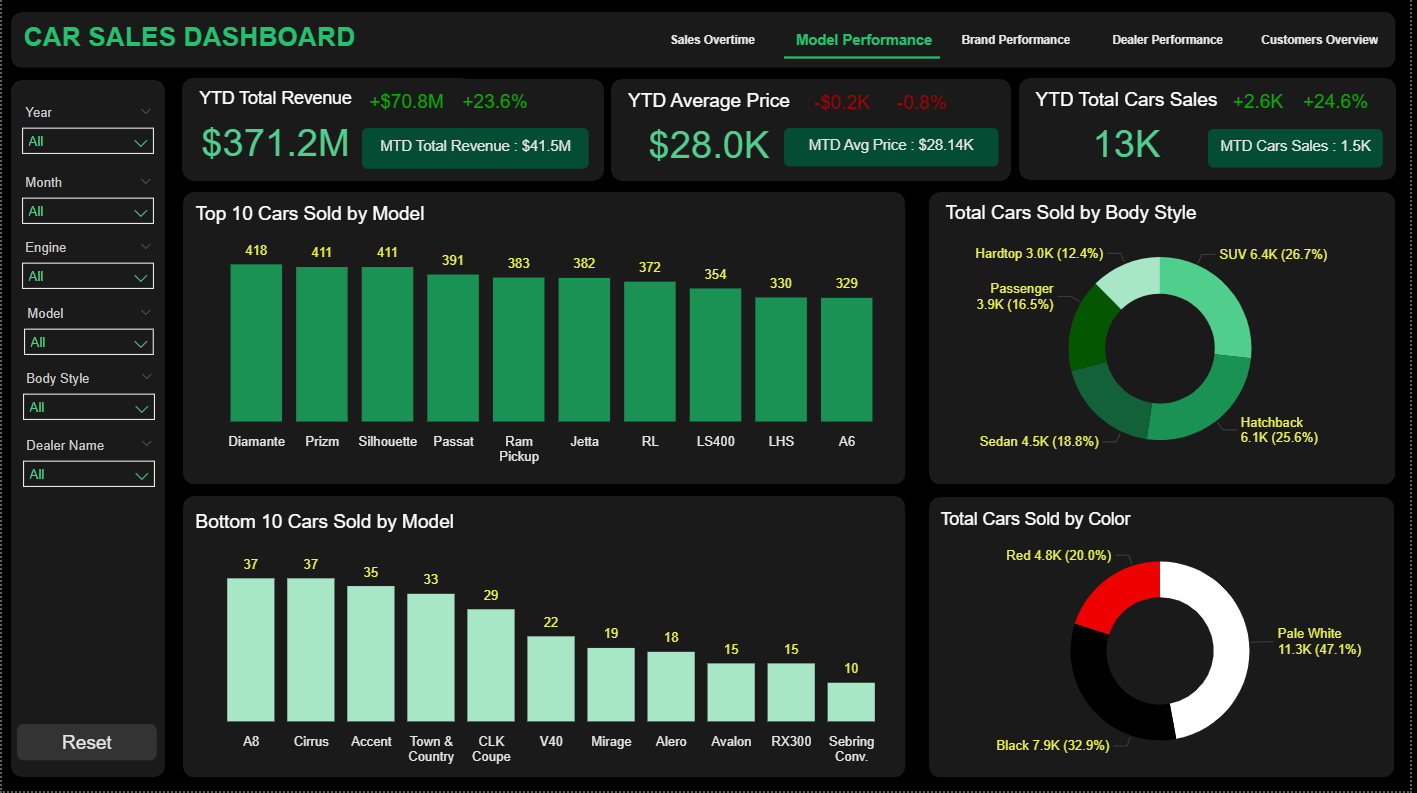

The page's visual inventory and layout, read from the dashboard file:
{"tool":"powerbi","page":{"name":"Model Performance","canvas":[1280,720],"ordinal":1},"visuals":[{"type":"shape","box":[7.3,11.8,145.5,153.6],"z":0},{"type":"shape","box":[163.6,11.8,1103.6,50.9],"z":1000},{"type":"shape","box":[6.4,175.5,146.4,531.8],"z":2000},{"type":"shape","box":[1002,73,265,92],"z":3000},{"type":"shape","box":[724.5,72.7,264.5,92.7],"z":4000},{"type":"shape","box":[443.3,71.6,265.1,93.1],"z":5000},{"type":"shape","box":[163.6,71.8,264.5,92.7],"z":6000},{"type":"shape","box":[891.8,175.5,375.5,266.4],"z":7000},{"type":"slicer","fields":{"Values":["DateTable.Year"]},"box":[16.4,190,129.1,60.9],"z":8000},{"type":"slicer","fields":{"Values":["Car Model.Engine"]},"box":[16.4,346.4,129.1,60],"z":9000},{"type":"slicer","fields":{"Values":["Car Model.Model"]},"box":[16.4,421.8,129.1,59.1],"z":10000},{"type":"slicer","fields":{"Values":["Dealer.Dealer_Name"]},"box":[14.5,572.7,129.1,60],"z":11000},{"type":"slicer","fields":{"Values":["Car Model.Body Style"]},"box":[16.4,497.3,129.1,60],"z":12000},{"type":"textbox","box":[455.2,17.5,538.8,39.9],"z":13000},{"type":"textbox","box":[14.5,17.3,138.2,29.1],"z":14000},{"type":"actionButton","box":[16.4,650.9,129.1,32.7],"z":15000},{"type":"slicer","fields":{"Values":["DateTable.Month Name"]},"box":[16.4,270,129.1,59.1],"z":16000},{"type":"donutChart","fields":{"Y":["Car Sales Datasets.Total Cars Sold"],"Category":["Car Model.Body Style"]},"box":[898.2,180.9,368.1,255.2],"z":17000},{"type":"shape","box":[891.9,452.3,374.5,254.8],"z":18000},{"type":"shape","box":[163.6,175.5,719.1,266.4],"z":19000},{"type":"shape","title":"Top 10 Cars Sold by Model","box":[163.6,451.8,719.1,255.5],"z":20000},{"type":"columnChart","title":"Top 10 Cars Sold by Model","fields":{"Y":["Car Sales Datasets.Total Cars Sold"],"Category":["Car Model.Model"]},"box":[164.5,180.9,715.5,255.5],"z":21000},{"type":"columnChart","title":"Bottom 10 Cars Sold by Model","fields":{"Y":["Car Sales Datasets.Total Cars Sold"],"Category":["Car Model.Model"]},"box":[164.5,458.2,715.5,245.5],"z":22000},{"type":"donutChart","title":"Total Cars Sold by Color","fields":{"Y":["Car Sales Datasets.Total Cars Sold"],"Category":["Car Model.Color"]},"box":[898.2,464.5,369.1,232.7],"z":23000},{"type":"pageNavigator","box":[14.5,44.5,129.1,112.7],"z":24000},{"type":"shape","box":[164.5,72.7,264.5,92.7],"z":25000},{"type":"card","title":"YTD Total Revenue","fields":{"Values":["Measrure.YTD Revenue"]},"box":[164.5,87.3,138.2,78.2],"z":26000},{"type":"card","fields":{"Values":["Sales.Revenue Diff and Icon"]},"box":[302.7,72.7,68.2,46.4],"z":27000},{"type":"card","fields":{"Values":["Measrure.YOY Revenue Growth and Icon"]},"box":[368.2,72.7,60.9,46.4],"z":28000},{"type":"shape","box":[443.2,73.4,264.2,93.1],"z":29000},{"type":"shape","box":[444.1,72.5,264.2,93.1],"z":30000},{"type":"card","fields":{"Values":["Measrure.Avg Sale Price Diff and Icon"]},"box":[589.1,72.7,64.5,46.4],"z":31000},{"type":"card","fields":{"Values":["Measrure.YOY Avg Price Growth and Icon"]},"box":[653.6,72.7,50.9,46.4],"z":32000},{"type":"card","title":" YTD Average Price","fields":{"Values":["Measrure.YTD Avg Sale Price"]},"box":[444.5,87.3,144.5,78.2],"z":33000},{"type":"shape","box":[726.3,72.5,264.2,93.1],"z":34000},{"type":"card","title":"YTD Total Cars Sales","fields":{"Values":["Measrure.YTD Total Cars Sold"]},"box":[726.4,87.3,153.6,78.2],"z":35000},{"type":"card","fields":{"Values":["Measrure.Total Cars Sold Diff and Icon"]},"box":[880,72.7,49.1,46.4],"z":36000},{"type":"card","fields":{"Values":["Measure.YOY Total Cars Sold Growth and Icon"]},"box":[929.1,72.7,61.8,46.4],"z":37000},{"type":"shape","box":[1003,72.5,264.2,93.1],"z":38000},{"type":"card","title":"YTD Total Customers","fields":{"Values":["Measure.YTD Total Customers"]},"box":[1002.7,87.3,153.6,78.2],"z":39000},{"type":"card","fields":{"Values":["Measure.Total Customers Diff and Icon"]},"box":[1156.4,72.7,51.8,46.4],"z":40000},{"type":"card","fields":{"Values":["Measure.YOY Total Customers Growth and Icon"]},"box":[1205.5,72.7,61.8,46.4],"z":41000},{"type":"lineChart","fields":{"Category":["DateTable.Month Number"],"Y":["Measure.Total Revenue"]},"box":[296.4,86,163.9,78.8],"z":42000},{"type":"lineChart","fields":{"Category":["DateTable.Month Number"],"Y":["Measure.Average Sale Price"]},"box":[580.3,99.4,160.3,65.4],"z":43000},{"type":"lineChart","fields":{"Category":["DateTable.Month Number"],"Y":["Measure.Total Cars Sold"]},"box":[873.1,96.7,137,68.1],"z":44000},{"type":"lineChart","fields":{"Category":["DateTable.Month Number"],"Y":["Customer.Total Customers"]},"box":[1151.6,96.7,128.1,68.1],"z":45000}]}

Visuals, with their boxes in screenshot pixels (x1, y1, x2, y2), scaled from the page's 1280x720 canvas onto the 1417x793 screenshot:
shape: (left=8, top=13, right=169, bottom=182)
shape: (left=181, top=13, right=1403, bottom=69)
shape: (left=7, top=193, right=169, bottom=779)
shape: (left=1109, top=80, right=1403, bottom=182)
shape: (left=802, top=80, right=1095, bottom=182)
shape: (left=491, top=79, right=784, bottom=181)
shape: (left=181, top=79, right=474, bottom=181)
shape: (left=987, top=193, right=1403, bottom=487)
slicer - DateTable.Year: (left=18, top=209, right=161, bottom=276)
slicer - Car Model.Engine: (left=18, top=382, right=161, bottom=448)
slicer - Car Model.Model: (left=18, top=465, right=161, bottom=530)
slicer - Dealer.Dealer_Name: (left=16, top=631, right=159, bottom=697)
slicer - Car Model.Body Style: (left=18, top=548, right=161, bottom=614)
textbox: (left=504, top=19, right=1100, bottom=63)
textbox: (left=16, top=19, right=169, bottom=51)
actionButton: (left=18, top=717, right=161, bottom=753)
slicer - DateTable.Month Name: (left=18, top=297, right=161, bottom=362)
donutChart - Car Sales Datasets.Total Cars Sold x Car Model.Body Style: (left=994, top=199, right=1402, bottom=480)
shape: (left=987, top=498, right=1402, bottom=779)
shape: (left=181, top=193, right=977, bottom=487)
"Top 10 Cars Sold by Model" shape: (left=181, top=498, right=977, bottom=779)
"Top 10 Cars Sold by Model" columnChart: (left=182, top=199, right=974, bottom=481)
"Bottom 10 Cars Sold by Model" columnChart: (left=182, top=505, right=974, bottom=775)
"Total Cars Sold by Color" donutChart: (left=994, top=512, right=1403, bottom=768)
pageNavigator: (left=16, top=49, right=159, bottom=173)
shape: (left=182, top=80, right=475, bottom=182)
"YTD Total Revenue" card: (left=182, top=96, right=335, bottom=182)
card - Sales.Revenue Diff and Icon: (left=335, top=80, right=411, bottom=131)
card - Measrure.YOY Revenue Growth and Icon: (left=408, top=80, right=475, bottom=131)
shape: (left=491, top=81, right=783, bottom=183)
shape: (left=492, top=80, right=784, bottom=182)
card - Measrure.Avg Sale Price Diff and Icon: (left=652, top=80, right=724, bottom=131)
card - Measrure.YOY Avg Price Growth and Icon: (left=724, top=80, right=780, bottom=131)
" YTD Average Price" card: (left=492, top=96, right=652, bottom=182)
shape: (left=804, top=80, right=1097, bottom=182)
"YTD Total Cars Sales" card: (left=804, top=96, right=974, bottom=182)
card - Measrure.Total Cars Sold Diff and Icon: (left=974, top=80, right=1029, bottom=131)
card - Measure.YOY Total Cars Sold Growth and Icon: (left=1029, top=80, right=1097, bottom=131)
shape: (left=1110, top=80, right=1403, bottom=182)
"YTD Total Customers" card: (left=1110, top=96, right=1280, bottom=182)
card - Measure.Total Customers Diff and Icon: (left=1280, top=80, right=1338, bottom=131)
card - Measure.YOY Total Customers Growth and Icon: (left=1335, top=80, right=1403, bottom=131)
lineChart - DateTable.Month Number x Measure.Total Revenue: (left=328, top=95, right=510, bottom=182)
lineChart - DateTable.Month Number x Measure.Average Sale Price: (left=642, top=109, right=820, bottom=182)
lineChart - DateTable.Month Number x Measure.Total Cars Sold: (left=967, top=107, right=1118, bottom=182)
lineChart - DateTable.Month Number x Customer.Total Customers: (left=1275, top=107, right=1416, bottom=182)
